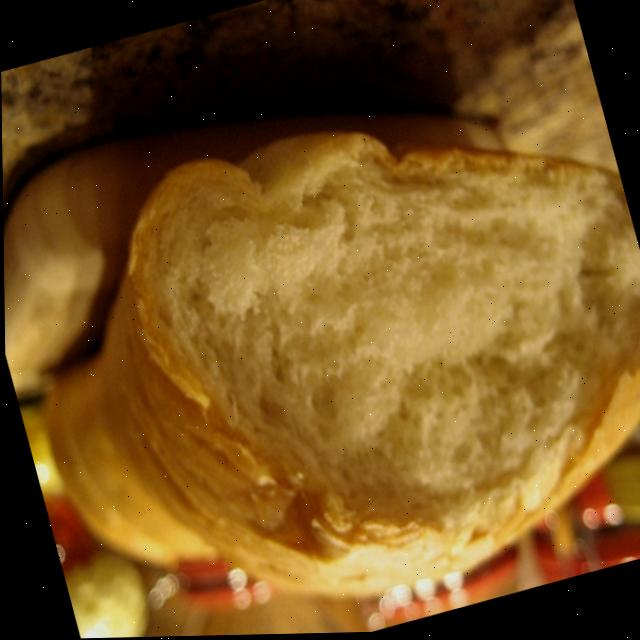面包点心: (0, 20, 640, 640)
